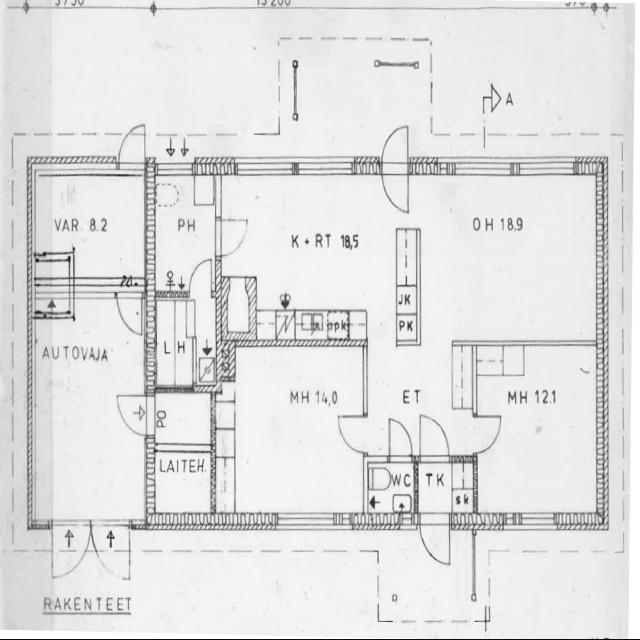door: (379, 120, 412, 216), (51, 526, 89, 579), (92, 526, 130, 578), (418, 512, 452, 568), (214, 212, 252, 261), (417, 411, 451, 464), (116, 392, 151, 439), (114, 287, 146, 338), (116, 121, 148, 172), (469, 412, 505, 457), (334, 412, 368, 458), (386, 416, 414, 464), (187, 256, 215, 297)
window: (274, 509, 341, 534), (293, 156, 356, 180), (516, 158, 577, 179), (457, 158, 514, 178), (234, 160, 293, 178), (153, 160, 195, 179)
zone: (216, 170, 412, 344), (415, 171, 599, 347), (28, 294, 147, 534), (218, 342, 366, 526), (474, 341, 606, 526), (31, 171, 148, 285), (149, 170, 216, 296), (148, 450, 215, 527), (150, 297, 198, 393), (151, 391, 215, 451), (416, 460, 476, 523), (364, 459, 416, 528), (31, 253, 73, 315), (592, 2, 612, 36)
